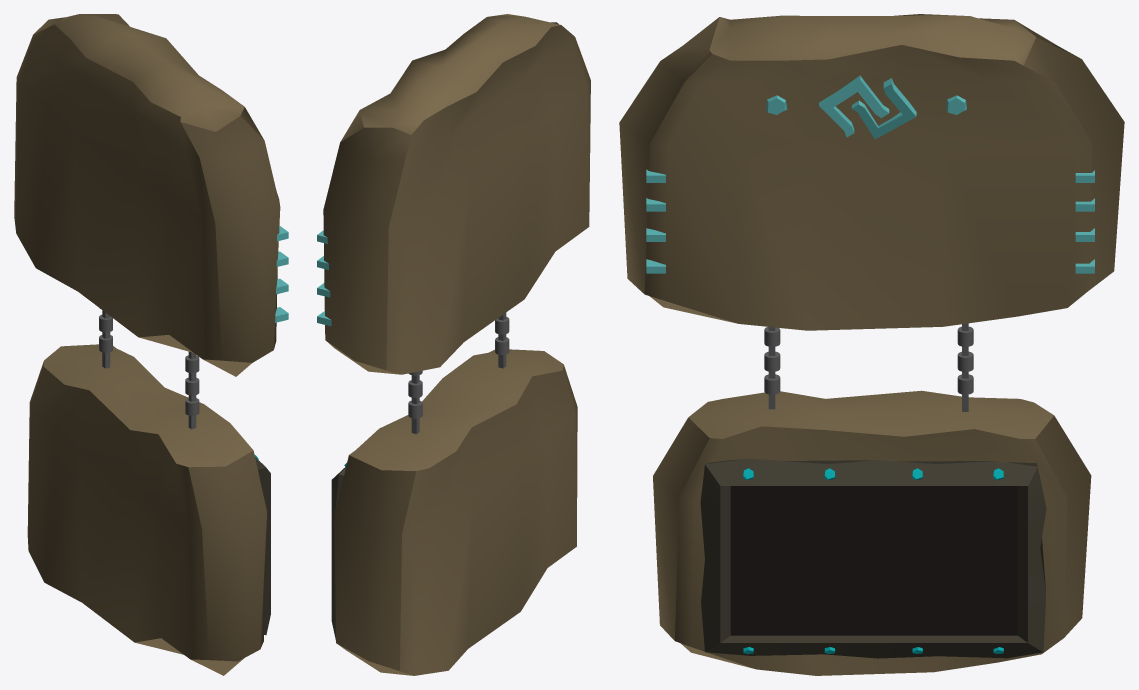
Rendered from Opening title new.fbx.
3 views of the same model, side by side, from view 1: azimuth 30°, elevation 25°; view 2: azimuth 150°, elevation 25°; view 3: azimuth 270°, elevation 25° (orthographic). The views are drawn at different scales.
Visible parts, largest first — view 1: pCube3, pasted__pCube3, TitleBoard; view 2: pCube3, pasted__pCube3, TitleBoard; view 3: pCube3, TitleBoard, pasted__pCube3, pasted__pasted__pCube6.
Part boxes in pixels (bbox=[...]): pCube3: bbox=[14, 14, 280, 376]; pasted__pCube3: bbox=[27, 344, 267, 675]; TitleBoard: bbox=[255, 457, 270, 635]; pCube3: bbox=[323, 14, 590, 374]; pasted__pCube3: bbox=[334, 349, 577, 675]; TitleBoard: bbox=[331, 466, 346, 639]; pCube3: bbox=[619, 14, 1124, 330]; TitleBoard: bbox=[700, 458, 1046, 658]; pasted__pCube3: bbox=[653, 390, 1091, 675]; pasted__pasted__pCube6: bbox=[819, 75, 916, 139].
Bounding box in the file's own units: 3.5 × 18.52 × 13.25.
Materials: 6 (1 with a texture image).
